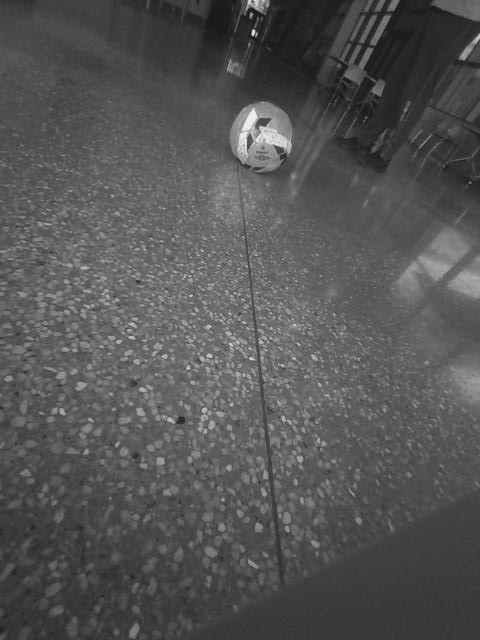ball: (228, 99, 298, 175)
